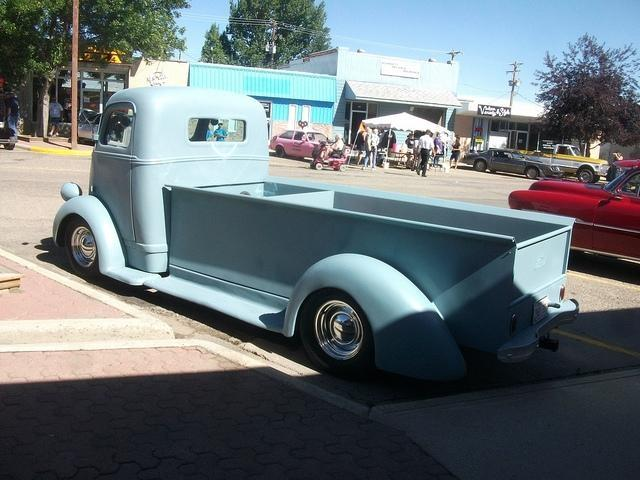car: (508, 160, 640, 265), (462, 148, 566, 180), (268, 129, 328, 160), (78, 112, 102, 146)
truck: (51, 89, 582, 383), (507, 143, 609, 181)
